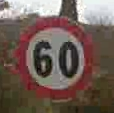limite 60: (15, 13, 97, 104)
